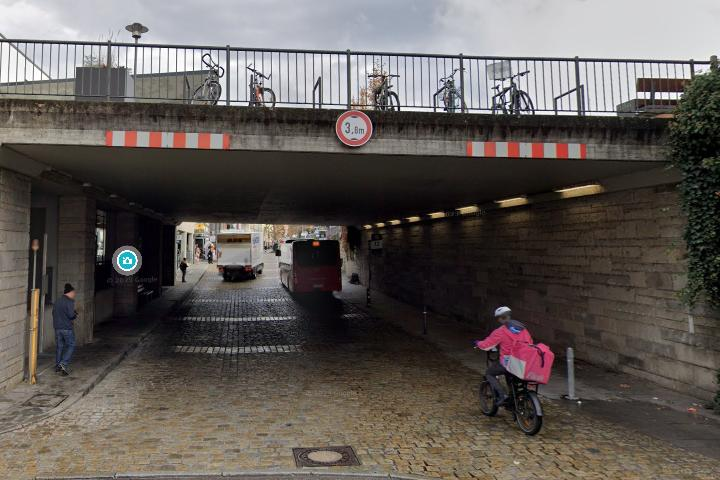google_maps: (117, 250, 139, 271)
traffic_sign: (334, 110, 373, 148)
vehicle: (271, 234, 348, 298), (211, 228, 267, 284)
